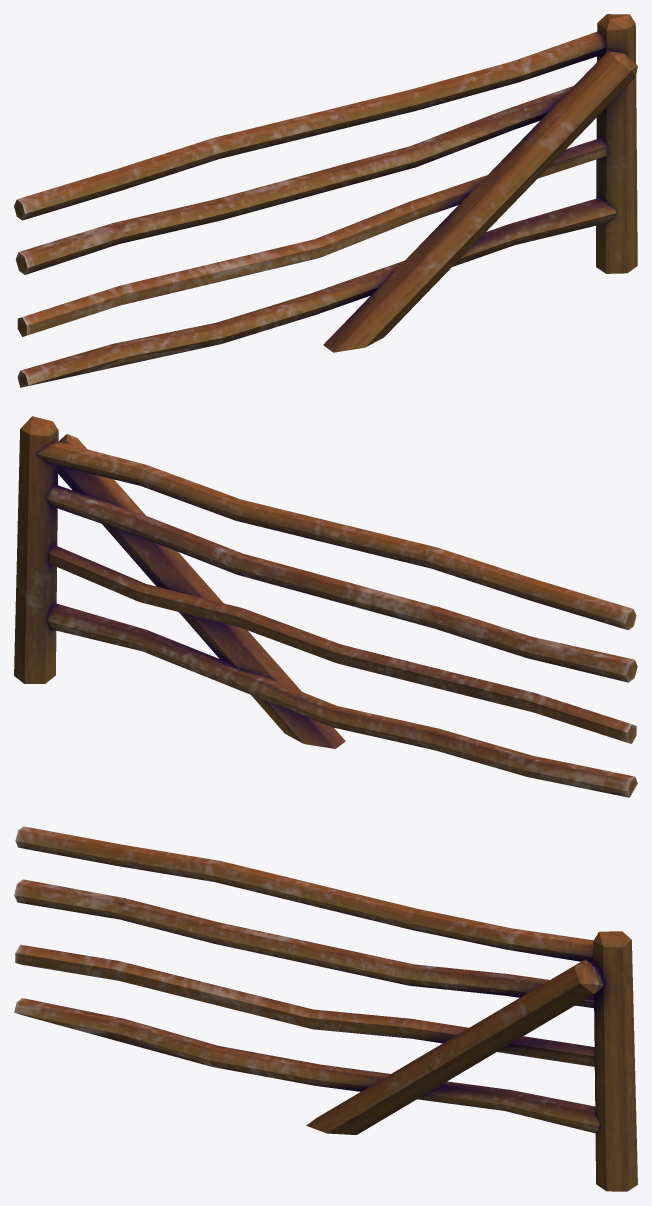
The model's file is Fence4.fbx.
3 renders of one model, top to bottom at view 1: azimuth 30°, elevation 25°; view 2: azimuth 150°, elevation 25°; view 3: azimuth 330°, elevation 25°, orthographic.
Parts seen in each view (by area): view 1: EA03_Fence_Beam_Seam_01d_LOD0; view 2: EA03_Fence_Beam_Seam_01d_LOD0; view 3: EA03_Fence_Beam_Seam_01d_LOD0.
Part boxes in pixels (bbox=[...]): EA03_Fence_Beam_Seam_01d_LOD0: bbox=[14, 14, 637, 387]; EA03_Fence_Beam_Seam_01d_LOD0: bbox=[14, 416, 637, 797]; EA03_Fence_Beam_Seam_01d_LOD0: bbox=[14, 826, 637, 1191].
Size of the model in its own units: 3.77 by 0.3871 by 1.51.
1 material, 1 textured.
